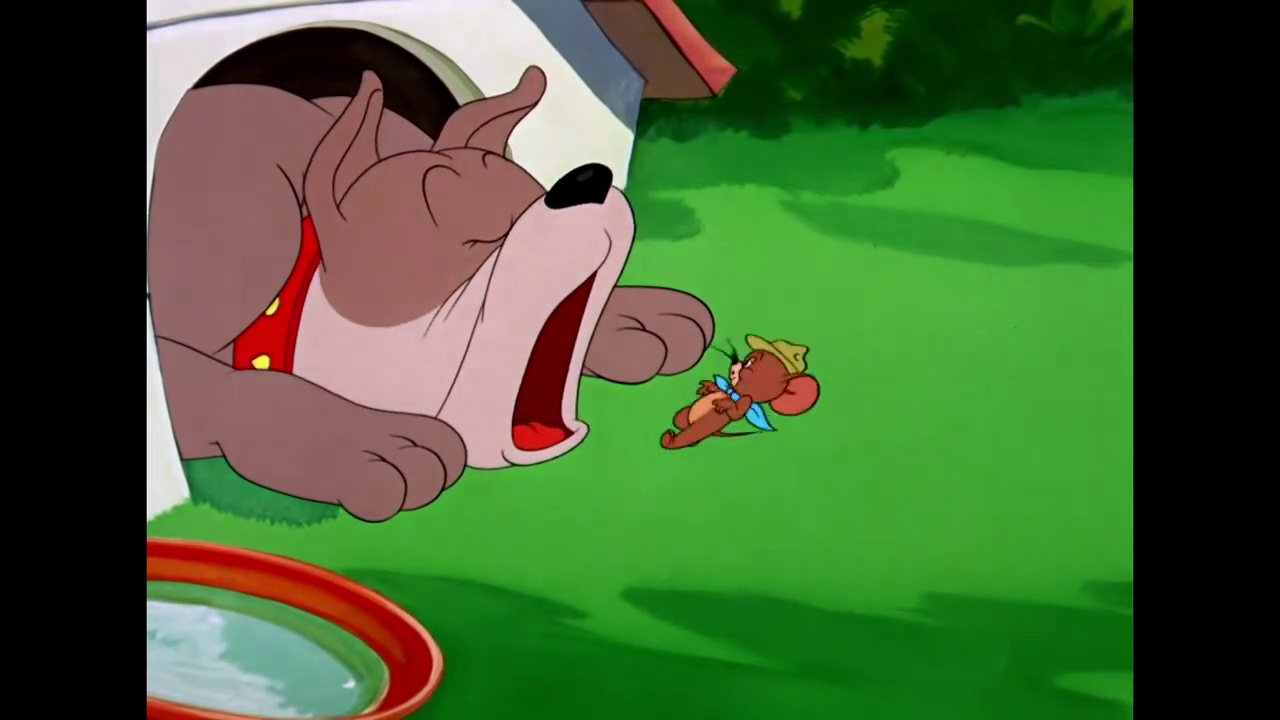spike: (282, 66, 636, 471)
